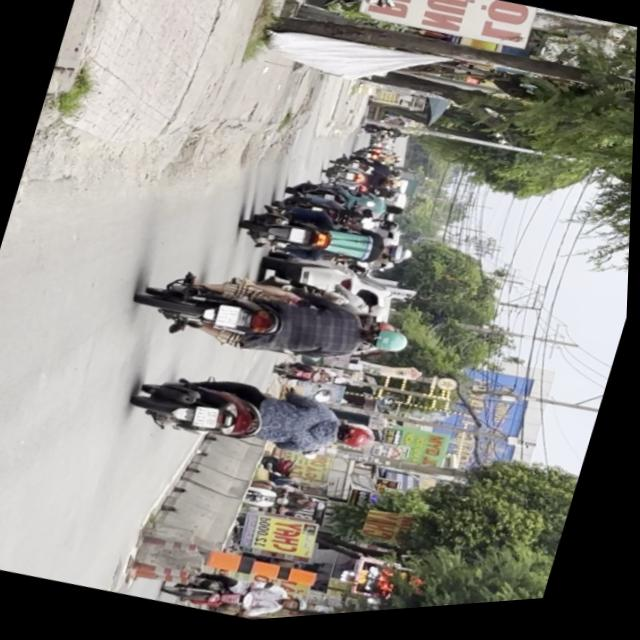helmet: (362, 329, 414, 366), (336, 425, 380, 460)
licenseplate: (127, 244, 425, 407), (126, 351, 390, 493)
nohelmet: (193, 407, 224, 435), (215, 307, 243, 334)
